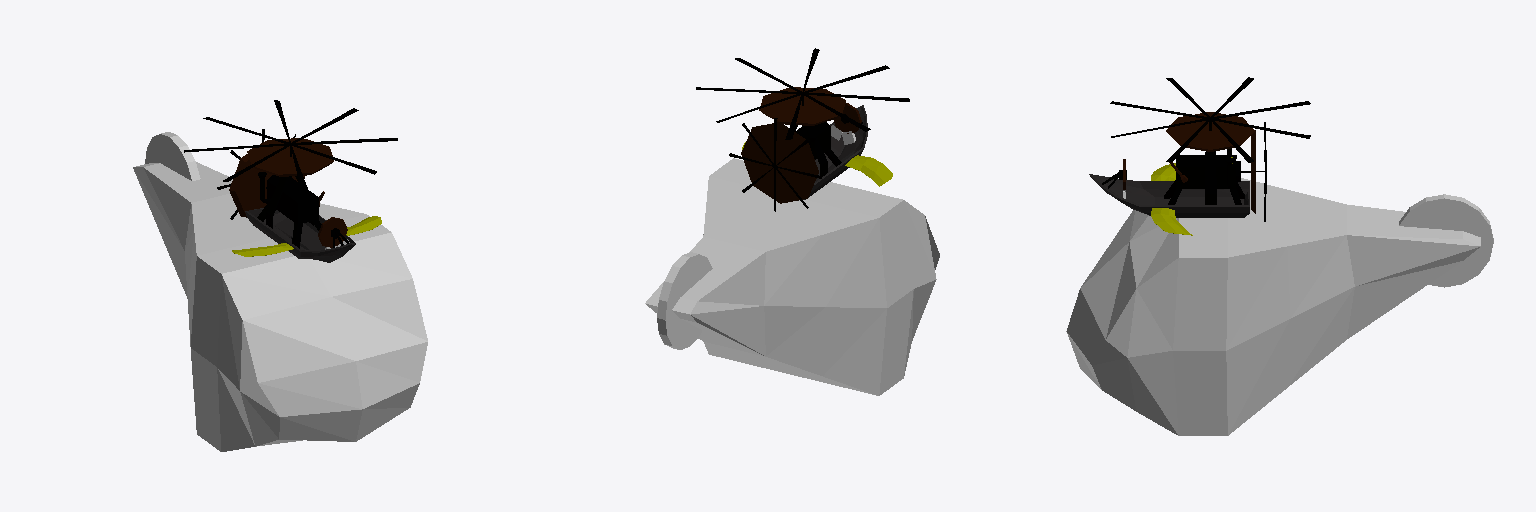
File: helicopter.obj
3 views of the same model, side by side, from view 1: azimuth 30°, elevation 25°; view 2: azimuth 150°, elevation 25°; view 3: azimuth 270°, elevation 25° (orthographic).
Parts seen in each view (by area): view 1: Cube_Cube.001, Plane, Cube.001_Cube.002, Cylinder.002_Cylinder.001, Cylinder.003_Cylinder.004, Cylinder, Cylinder.001, Cylinder.005_Cylinder.006; view 2: Cube_Cube.001, Cylinder.001, Cylinder, Cylinder.002_Cylinder.001, Cylinder.003_Cylinder.004, Plane, Cylinder.004_Cylinder.005, Plane.001, Cube.001_Cube.002; view 3: Cube_Cube.001, Cylinder, Plane, Cube.001_Cube.002, Cylinder.002_Cylinder.001, Cylinder.003_Cylinder.004, Plane.002_Plane.001, Cube.003_Cube.004.
Boxes of the visible parts, x1,y1,x2,y2 form: Cube_Cube.001: [133, 162, 427, 451]; Plane: [245, 208, 355, 262]; Cube.001_Cube.002: [257, 172, 321, 248]; Cylinder.002_Cylinder.001: [247, 138, 333, 176]; Cylinder.003_Cylinder.004: [184, 100, 397, 190]; Cylinder: [145, 132, 200, 180]; Cylinder.001: [229, 154, 304, 217]; Cylinder.005_Cylinder.006: [318, 217, 347, 247]; Cube_Cube.001: [645, 158, 939, 395]; Cylinder.001: [741, 122, 818, 203]; Cylinder: [657, 252, 712, 349]; Cylinder.002_Cylinder.001: [759, 87, 845, 125]; Cylinder.003_Cylinder.004: [696, 48, 909, 139]; Plane: [798, 105, 867, 200]; Cylinder.004_Cylinder.005: [729, 118, 821, 211]; Plane.001: [845, 155, 892, 186]; Cube.001_Cube.002: [795, 122, 841, 166]; Cube_Cube.001: [1066, 178, 1480, 435]; Cylinder: [1399, 194, 1493, 287]; Plane: [1089, 174, 1249, 217]; Cube.001_Cube.002: [1164, 148, 1250, 204]; Cylinder.002_Cylinder.001: [1166, 112, 1254, 151]; Cylinder.003_Cylinder.004: [1110, 77, 1310, 162]; Plane.002_Plane.001: [1151, 208, 1192, 235]; Cube.003_Cube.004: [1205, 151, 1216, 204].
Size of the model in its own units: 4.33 by 6.21 by 8.68.